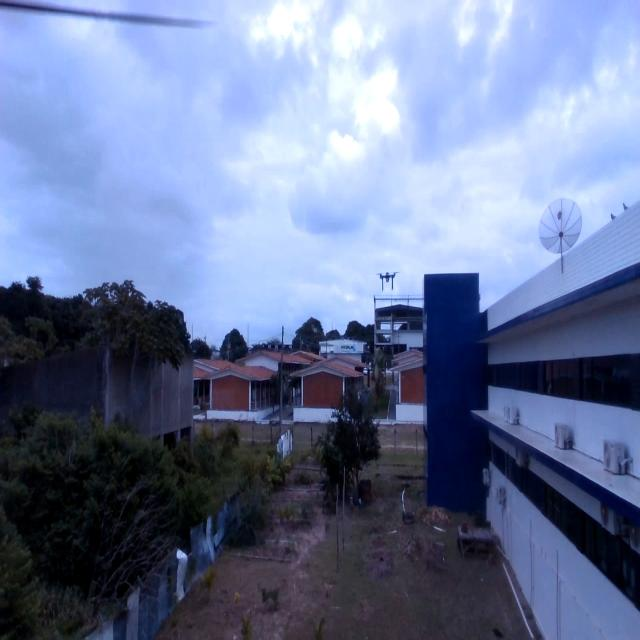-uav-: (372, 256, 405, 302)
